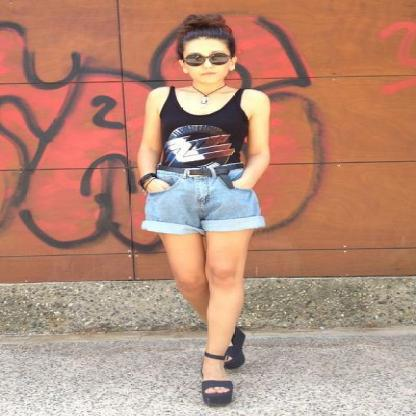shirt: (148, 92, 250, 174)
shoe: (198, 326, 245, 407)
shorts: (142, 172, 264, 358)
sunglass: (148, 51, 224, 191)
